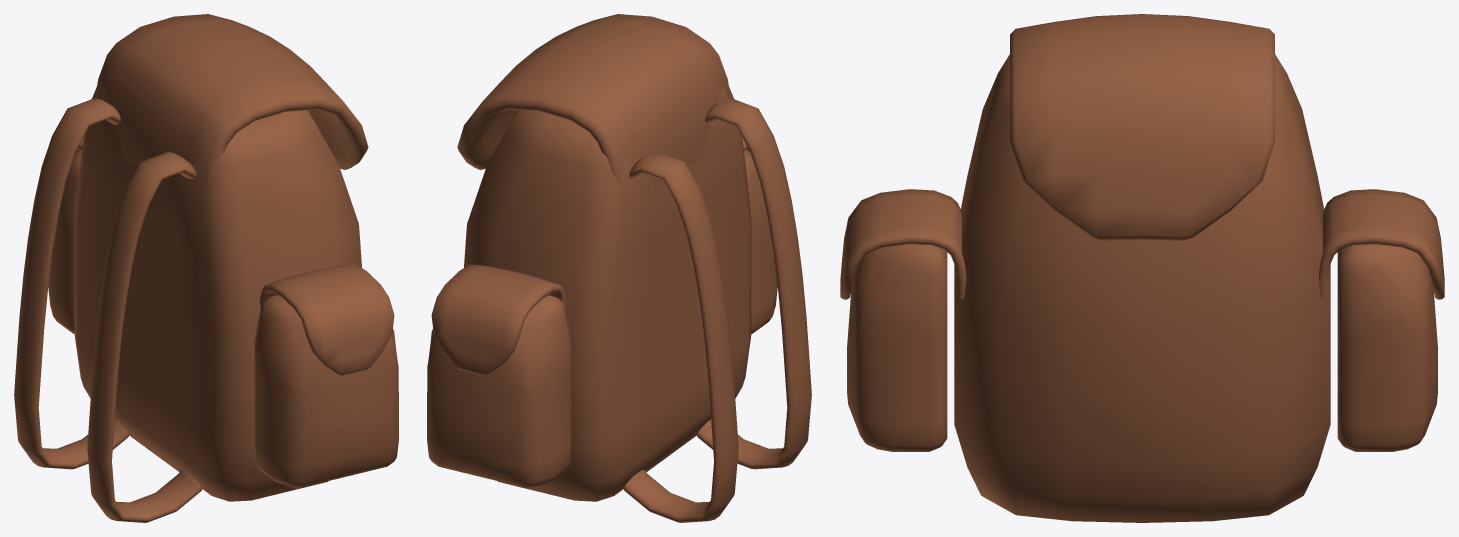
The model's file is backpack.fbx.
The picture shows the model from 3 angles, left to right: view 1: azimuth 30°, elevation 25°; view 2: azimuth 150°, elevation 25°; view 3: azimuth 270°, elevation 25°; orthographic projection. The views are drawn at different scales.
Parts seen in each view (by area): view 1: Bag, Lid, SidePocket, Strap.001, Strap, SidePocketLid, SidePocket.001; view 2: Bag, Lid, SidePocket.001, Strap, Strap.001, SidePocketLid.001, SidePocket; view 3: Bag, Lid, SidePocket, SidePocket.001, SidePocketLid, SidePocketLid.001.
Part boxes in pixels (x1,y1,x2,y2): Bag: (74, 87, 361, 501); Lid: (95, 14, 368, 191); SidePocket: (254, 295, 398, 488); Strap.001: (87, 152, 202, 522); Strap: (14, 98, 128, 469); SidePocketLid: (259, 264, 394, 375); SidePocket.001: (48, 149, 81, 333); Bag: (464, 87, 751, 501); Lid: (457, 14, 730, 191); SidePocket.001: (427, 295, 571, 488); Strap: (623, 152, 738, 522); Strap.001: (697, 98, 811, 469); SidePocketLid.001: (431, 264, 566, 375); SidePocket: (744, 149, 777, 333); Bag: (954, 54, 1330, 522); Lid: (1010, 14, 1274, 240); SidePocket: (847, 244, 947, 451); SidePocket.001: (1337, 244, 1437, 451); SidePocketLid: (840, 189, 966, 299); SidePocketLid.001: (1319, 189, 1444, 299).
Size of the model in its own units: 41.35 by 59.47 by 68.52.
